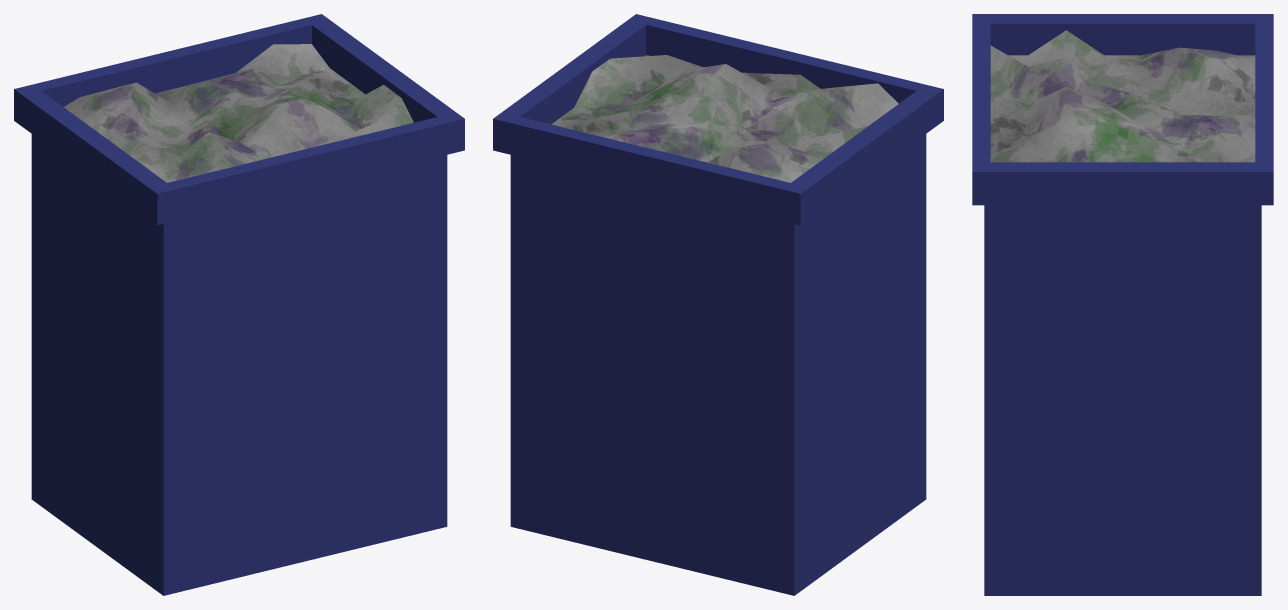
File: containerblue.fbx
3 renders of one model, left to right at view 1: azimuth 30°, elevation 25°; view 2: azimuth 150°, elevation 25°; view 3: azimuth 270°, elevation 25°, orthographic. The views are drawn at different scales.
Visible parts, largest first — view 1: containerblue, trashb; view 2: containerblue, trashb; view 3: containerblue, trashb.
Part boxes in pixels (box(x1,y1,x2,y2)): containerblue: box(14, 14, 464, 595); trashb: box(64, 44, 413, 182); containerblue: box(493, 14, 943, 595); trashb: box(551, 55, 898, 182); containerblue: box(972, 14, 1273, 595); trashb: box(990, 30, 1255, 162).
Size of the model in its own units: 10.38 by 13.69 by 8.36.
2 materials, 2 textured.
